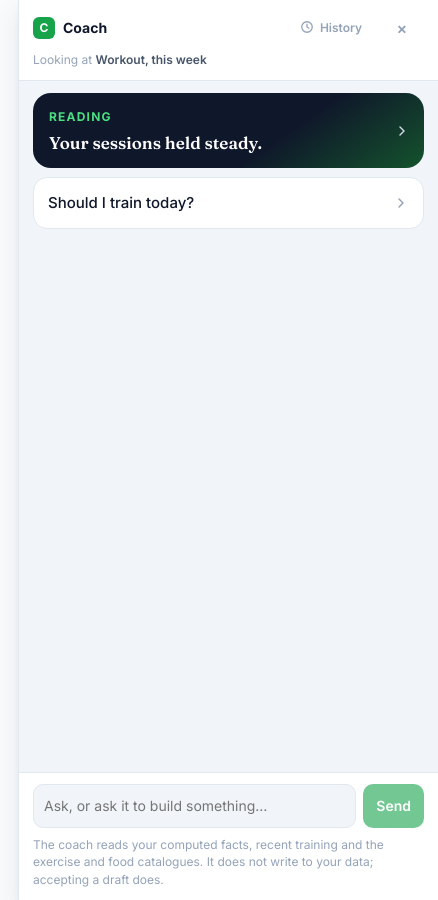
Test: CoachDockComponent — first screen › pins the reading when its row is pressed
Click the button with class "reading-row" at (228, 131), box [33,93,424,168]
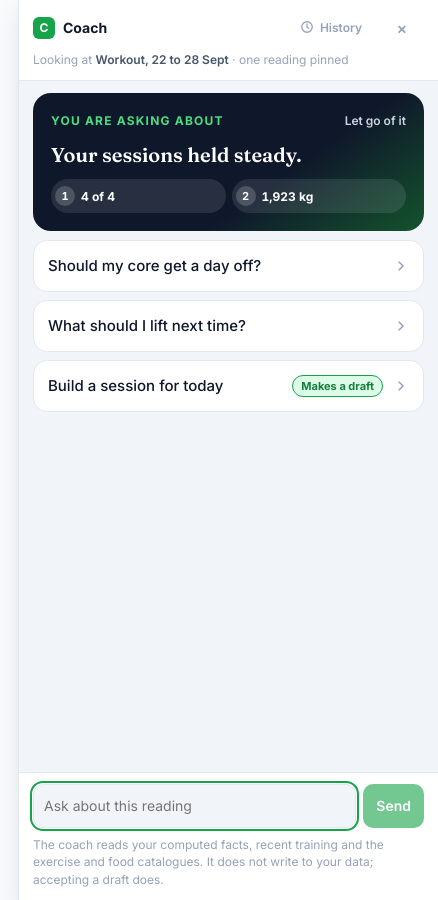
Now the button with class "reading-row" is gone
Now the element named "The reading you are asking about" is shown, box [33,93,424,231]
